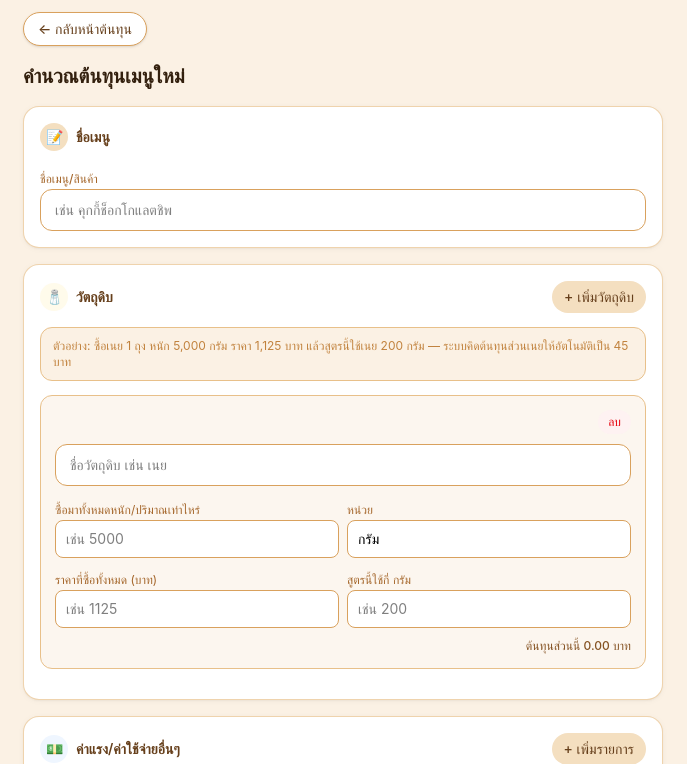
it: CostRecipeForm — สร้างใหม่ › กรอกวัตถุดิบแล้วตัวเลขต้นทุน/ราคาขายแนะนำอัปเดตทันทีแบบ live โดยไม่ต้องกดอะไรเพิ่ม
The image size is (687, 764).
In the field with placeholder "ชื่อวัตถุดิบ เช่น เนย": (343, 465) [55, 444, 631, 486], type "เนย"
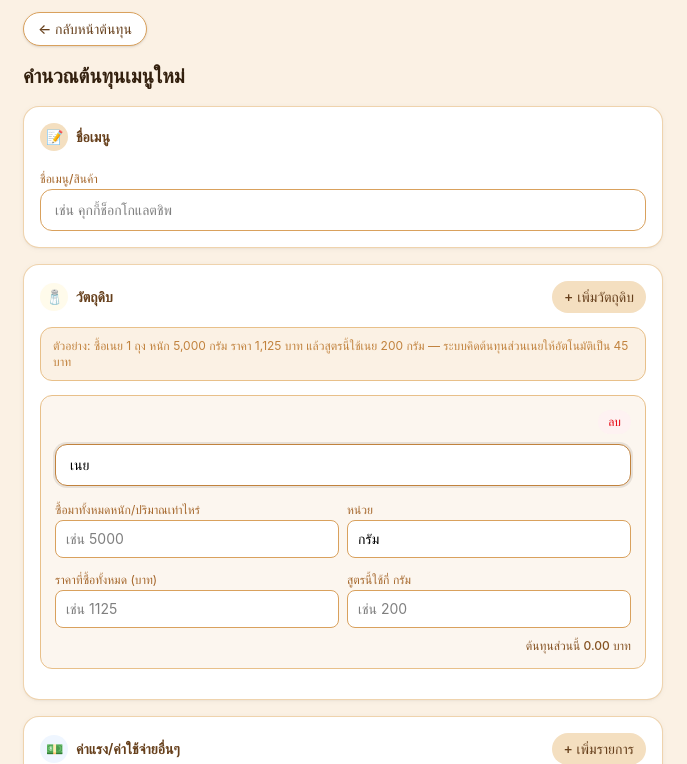
In the number field with placeholder "เช่น 5000": (197, 539) [55, 520, 339, 558], type "5000"
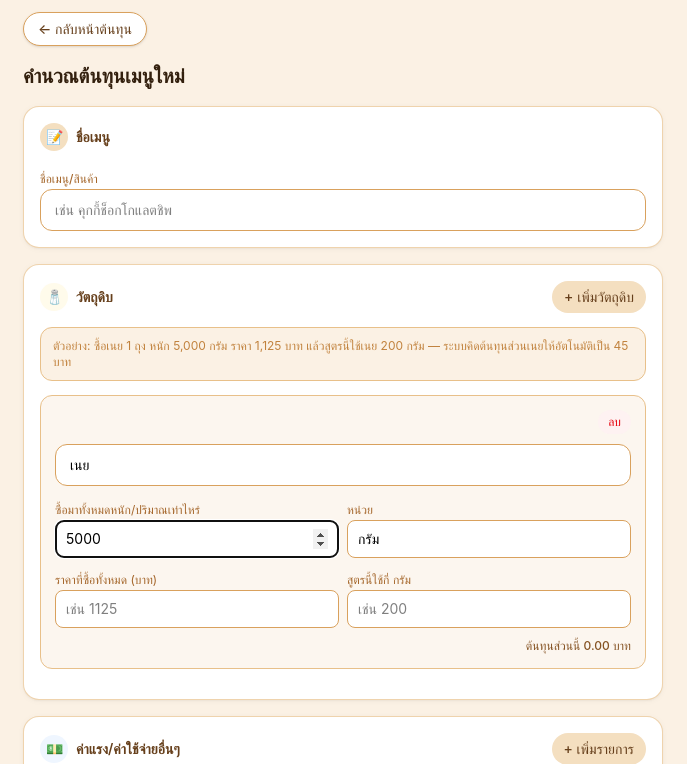
In the number field with placeholder "เช่น 1125": (197, 609) [55, 590, 339, 628], type "1125"
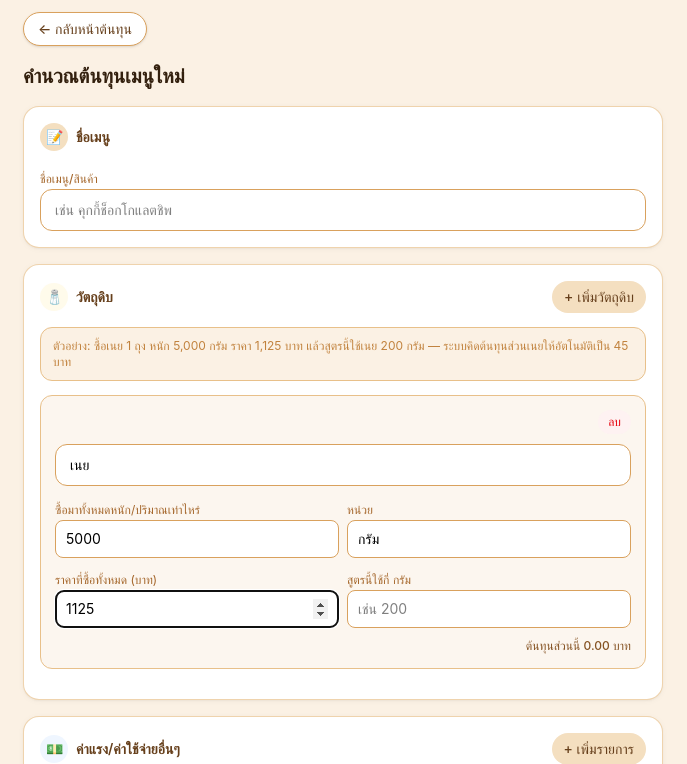
In the number field with placeholder "เช่น 200": (489, 609) [347, 590, 631, 628], type "200"
(page scrolled)
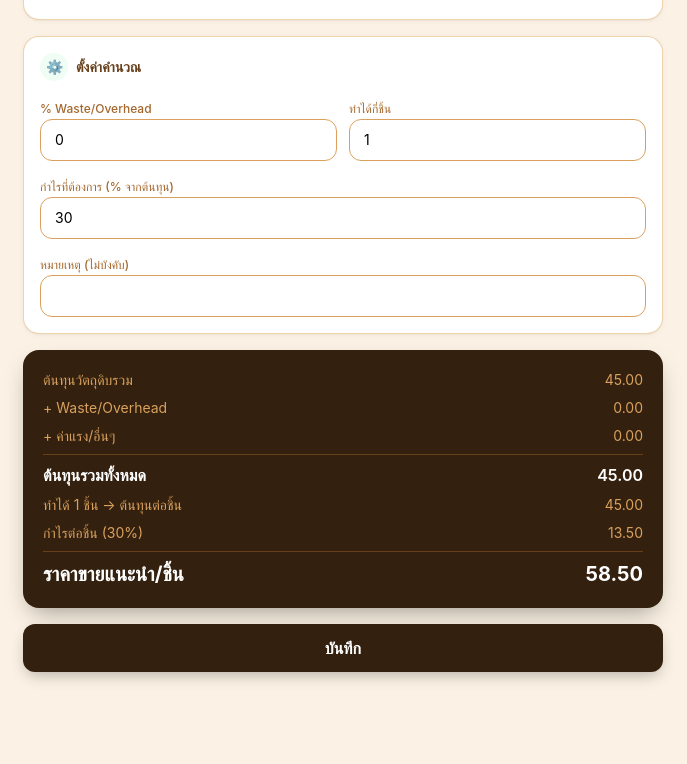
Expected: the text "45.00" in the row of "ต้นทุนวัตถุดิบรวม" is shown, [605, 371, 643, 388]
